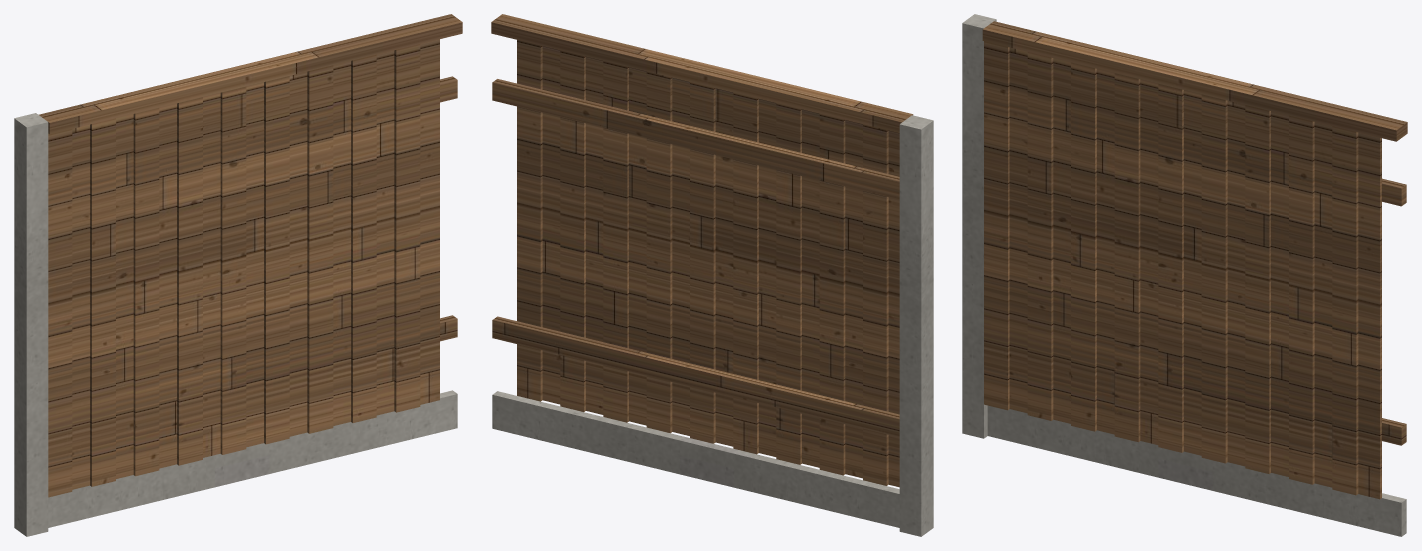
The model's file is board_fence.glb.
3 views of the same model, side by side, from view 1: azimuth 30°, elevation 25°; view 2: azimuth 150°, elevation 25°; view 3: azimuth 330°, elevation 25° (orthographic).
Parts seen in each view (by area): view 1: board_fence_fencew, board_fence_concrete; view 2: board_fence_fencew, board_fence_concrete; view 3: board_fence_fencew, board_fence_concrete.
Part boxes in pixels (x1,y1,x2,y2): board_fence_fencew: [38, 14, 462, 497]; board_fence_concrete: [14, 113, 457, 536]; board_fence_fencew: [491, 14, 913, 487]; board_fence_concrete: [492, 115, 933, 536]; board_fence_fencew: [982, 21, 1407, 499]; board_fence_concrete: [962, 14, 1406, 536].
Size of the model in its own units: 2 by 1.8 by 0.11.
Materials: 2 (2 with a texture image).
